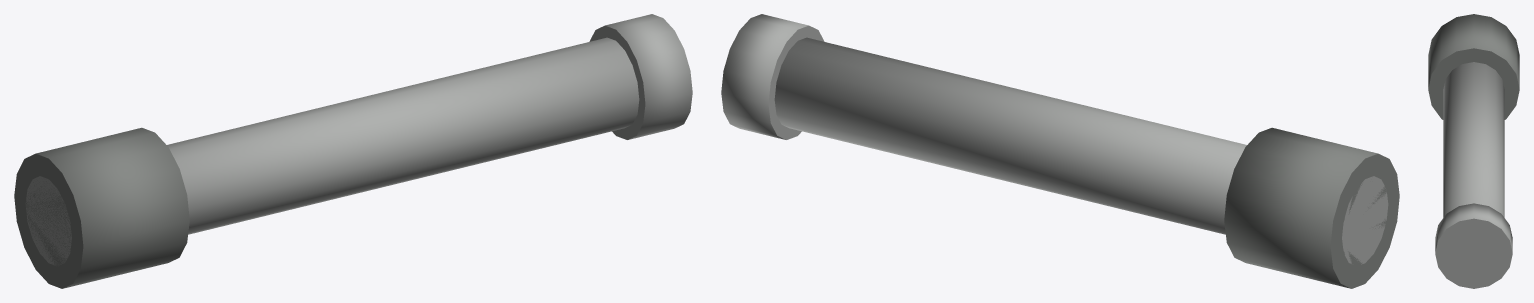
File: pipe_m08_x8.obj
3 views of the same model, side by side, from view 1: azimuth 30°, elevation 25°; view 2: azimuth 150°, elevation 25°; view 3: azimuth 270°, elevation 25° (orthographic). The views are drawn at different scales.
Visible parts, largest first — view 1: pipe8, sleeve8, cap; view 2: pipe8, sleeve8, cap; view 3: pipe8, sleeve8, cap.
Boxes of the visible parts, left/top/right/bottom form: pipe8: left=25, top=37, right=639, bottom=265; sleeve8: left=14, top=127, right=189, bottom=288; cap: left=589, top=14, right=692, bottom=139; pipe8: left=774, top=37, right=1388, bottom=264; sleeve8: left=1224, top=127, right=1399, bottom=288; cap: left=721, top=14, right=824, bottom=139; pipe8: left=1443, top=62, right=1504, bottom=217; sleeve8: left=1428, top=14, right=1519, bottom=119; cap: left=1435, top=203, right=1512, bottom=288.
Bounding box in the file's own units: 0.52 × 0.1014 × 0.1014.
2 materials, 2 textured.
